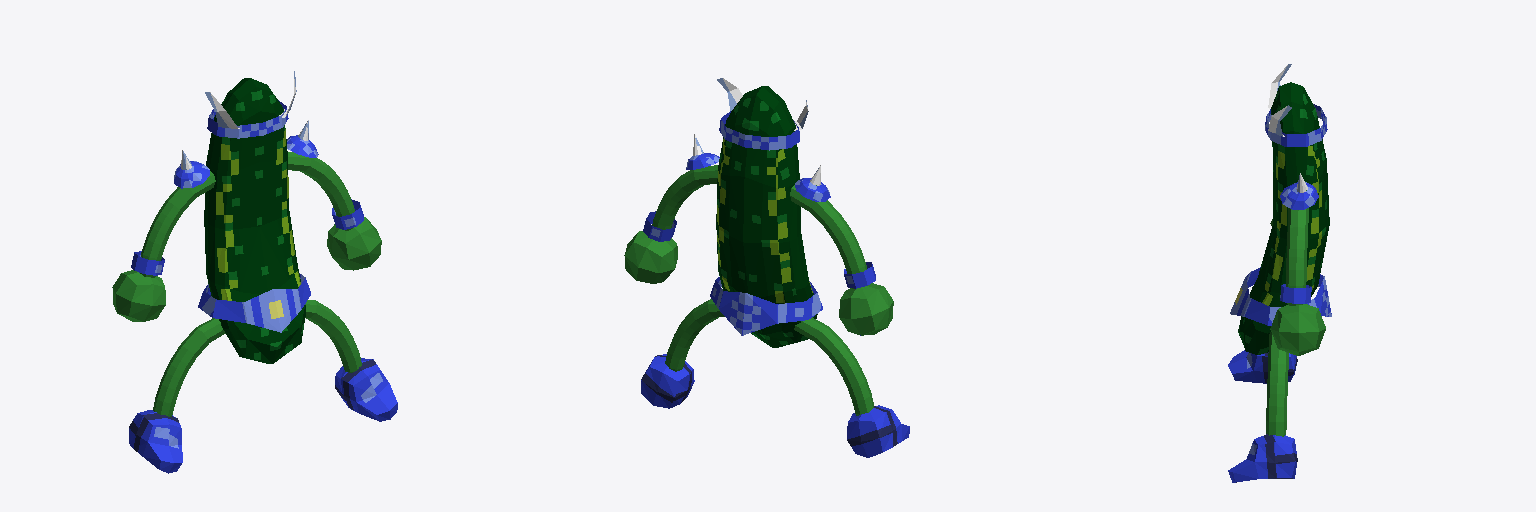
The picture shows the model from 3 angles: view 1: azimuth 30°, elevation 25°; view 2: azimuth 150°, elevation 25°; view 3: azimuth 270°, elevation 25°; orthographic projection.
Parts seen in each view (by area): view 1: Cube, Cube.005_Cube.015, Cube.002_Cube.012, Cube.003_Cube.013, Cube.004_Cube.014, Cube.010_Cube.020, Cube.008_Cube.018, Cube.006_Cube.016, Cube.001, Cube.007_Cube.017; view 2: Cube, Cube.002_Cube.012, Cube.005_Cube.015, Cube.003_Cube.013, Cube.004_Cube.014, Cube.010_Cube.020, Cube.006_Cube.016, Cube.001, Cube.008_Cube.018; view 3: Cube, Cube.005_Cube.015, Cube.002_Cube.012, Cube.003_Cube.013, Cube.004_Cube.014, Cube.010_Cube.020, Cube.006_Cube.016, Cube.008_Cube.018, Cube.007_Cube.017.
Boxes of the visible parts, x1,y1,x2,y2 form: Cube: [204, 78, 305, 363]; Cube.005_Cube.015: [129, 358, 397, 473]; Cube.002_Cube.012: [112, 217, 381, 321]; Cube.003_Cube.013: [153, 300, 361, 416]; Cube.004_Cube.014: [140, 152, 354, 277]; Cube.010_Cube.020: [198, 273, 310, 332]; Cube.008_Cube.018: [174, 135, 318, 188]; Cube.006_Cube.016: [207, 100, 288, 138]; Cube.001: [131, 199, 363, 275]; Cube.007_Cube.017: [205, 71, 296, 128]; Cube: [716, 86, 817, 347]; Cube.002_Cube.012: [624, 231, 893, 335]; Cube.005_Cube.015: [641, 354, 909, 457]; Cube.003_Cube.013: [665, 299, 873, 415]; Cube.004_Cube.014: [652, 165, 866, 288]; Cube.010_Cube.020: [710, 277, 822, 335]; Cube.006_Cube.016: [719, 111, 799, 150]; Cube.001: [643, 211, 875, 288]; Cube.008_Cube.018: [686, 153, 830, 201]; Cube: [1238, 82, 1329, 354]; Cube.005_Cube.015: [1228, 350, 1297, 482]; Cube.002_Cube.012: [1270, 219, 1325, 355]; Cube.003_Cube.013: [1266, 332, 1288, 436]; Cube.004_Cube.014: [1286, 208, 1308, 305]; Cube.010_Cube.020: [1230, 267, 1331, 325]; Cube.006_Cube.016: [1265, 104, 1327, 146]; Cube.008_Cube.018: [1280, 182, 1318, 209]; Cube.007_Cube.017: [1268, 64, 1291, 136].
Bounding box in the file's own units: 7.39 × 9.39 × 2.55.
Materials: 1 (1 with a texture image).